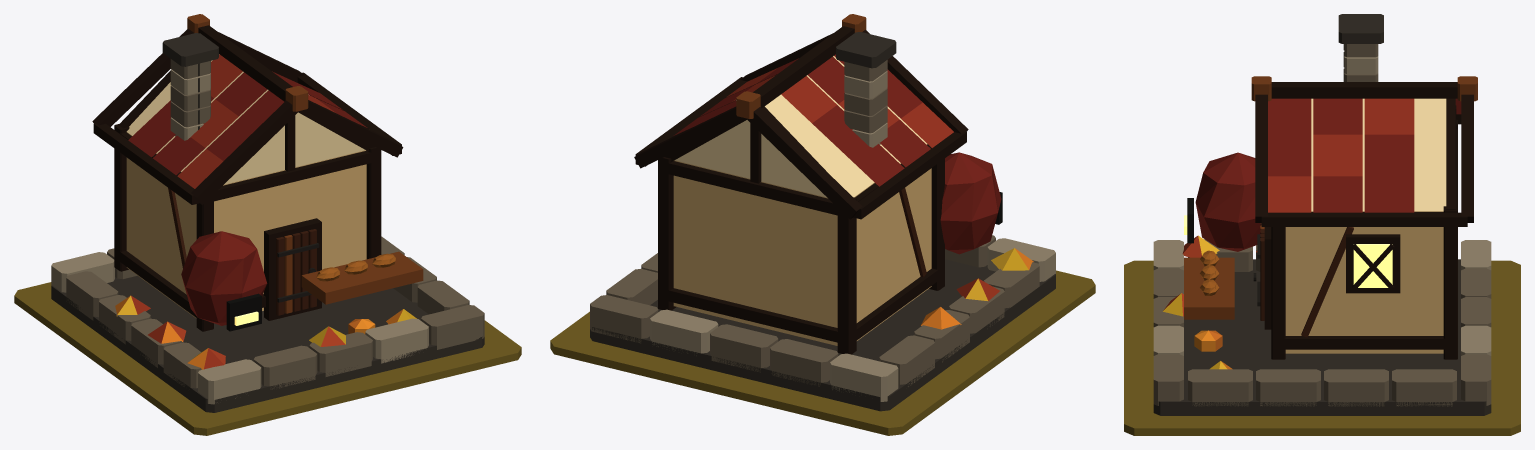
File: bakery_t2.glb
3 renders of one model, left to right at view 1: azimuth 30°, elevation 25°; view 2: azimuth 150°, elevation 25°; view 3: azimuth 270°, elevation 25°, orthographic. The views are drawn at different scales.
Visible parts, largest first — view 1: MMR | bakery | T02 Architecture.001, MMR | bakery | Tier 02 Ground.001, MMR | bakery | T02 Autumn Dressing.001; view 2: MMR | bakery | T02 Architecture.001, MMR | bakery | Tier 02 Ground.001, MMR | bakery | T02 Autumn Dressing.001; view 3: MMR | bakery | T02 Architecture.001, MMR | bakery | Tier 02 Ground.001, MMR | bakery | T02 Autumn Dressing.001.
Part boxes in pixels (<box>): MMR | bakery | T02 Architecture.001: <box>51,14,484,412</box>; MMR | bakery | Tier 02 Ground.001: <box>14,282,521,435</box>; MMR | bakery | T02 Autumn Dressing.001: <box>115,295,416,369</box>; MMR | bakery | T02 Architecture.001: <box>590,14,1055,411</box>; MMR | bakery | Tier 02 Ground.001: <box>550,270,1095,435</box>; MMR | bakery | T02 Autumn Dressing.001: <box>921,248,1033,329</box>; MMR | bakery | T02 Architecture.001: <box>1153,14,1491,415</box>; MMR | bakery | Tier 02 Ground.001: <box>1124,260,1520,435</box>; MMR | bakery | T02 Autumn Dressing.001: <box>1163,235,1257,369</box>.
Bounding box in the file's own units: 2.35 × 1.95 × 2.35.
Materials: 2 (1 with a texture image).
